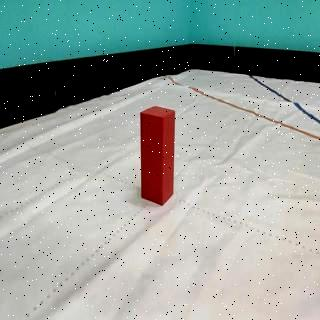redbox: (140, 106, 175, 206)
